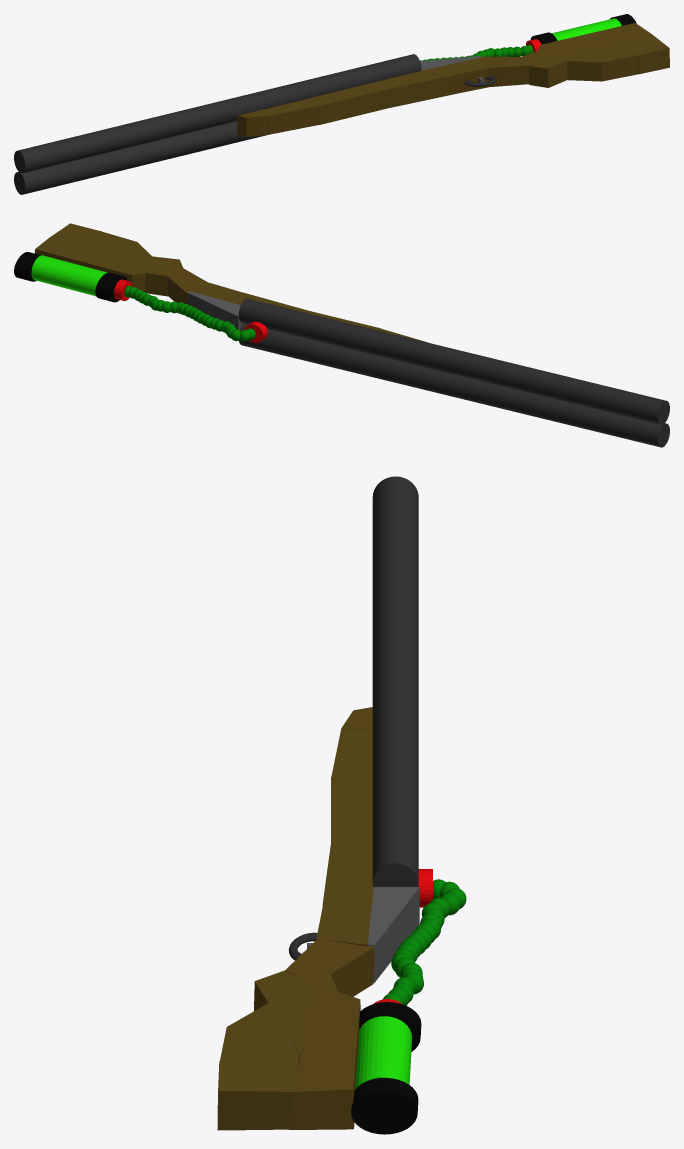
The model's file is shotgun01.fbx.
3 renders of one model, top to bottom at view 1: azimuth 30°, elevation 25°; view 2: azimuth 150°, elevation 25°; view 3: azimuth 270°, elevation 25°, orthographic. The views are drawn at different scales.
Visible parts, largest first — view 1: Cylinder.001, Cylinder, Cube.008, Cube, Cube.003, Cube.001, Cube.006, Cube.007, Cube.009, Cube.005, Cube.011, Cube.002 (+2 smaller); view 2: Cylinder.001, Cylinder, Cube.007, Cylinder.002, Cube.004, Cube.005, Cube.008, Cube.006, Cube.009, Cube.011, Cylinder.005, Cube.010 (+2 smaller); view 3: Cylinder.001, Cube.007, Cube.009, Cube.005, Cylinder.002, Cube.004, Cylinder.004, Cube.006, Cube.008, Cube.003, Cube, Cube.011 (+2 smaller).
Boxes of the visible parts, x1,y1,x2,y2 form: Cylinder.001: [14, 54, 421, 173]; Cylinder: [14, 121, 266, 194]; Cube.008: [567, 42, 638, 81]; Cube: [309, 81, 387, 124]; Cube.003: [378, 67, 452, 108]; Cube.001: [260, 98, 319, 134]; Cube.006: [528, 42, 611, 87]; Cube.007: [535, 23, 651, 56]; Cube.009: [612, 34, 669, 74]; Cube.005: [482, 56, 533, 86]; Cube.011: [439, 57, 489, 94]; Cube.002: [237, 110, 267, 137]; Cylinder.001: [238, 298, 669, 424]; Cylinder: [239, 323, 669, 447]; Cube.007: [34, 237, 159, 291]; Cylinder.002: [31, 255, 107, 296]; Cube.004: [187, 291, 243, 330]; Cube.005: [162, 268, 208, 303]; Cube.008: [89, 231, 151, 256]; Cube.006: [88, 249, 182, 270]; Cube.009: [50, 223, 101, 248]; Cube.011: [189, 282, 244, 302]; Cylinder.005: [95, 272, 126, 302]; Cube.010: [144, 270, 167, 296]; Cylinder.001: [372, 476, 418, 887]; Cube.007: [289, 984, 360, 1129]; Cube.009: [217, 1054, 299, 1130]; Cube.005: [285, 939, 374, 996]; Cylinder.002: [355, 1016, 412, 1089]; Cube.004: [367, 887, 419, 983]; Cylinder.004: [351, 1078, 418, 1134]; Cube.006: [254, 970, 316, 1058]; Cube.008: [220, 1003, 299, 1061]; Cube.003: [322, 843, 373, 905]; Cube: [331, 777, 372, 843]; Cube.011: [316, 903, 371, 946].
Bounding box in the file's own units: 6650 × 447 × 1178.
